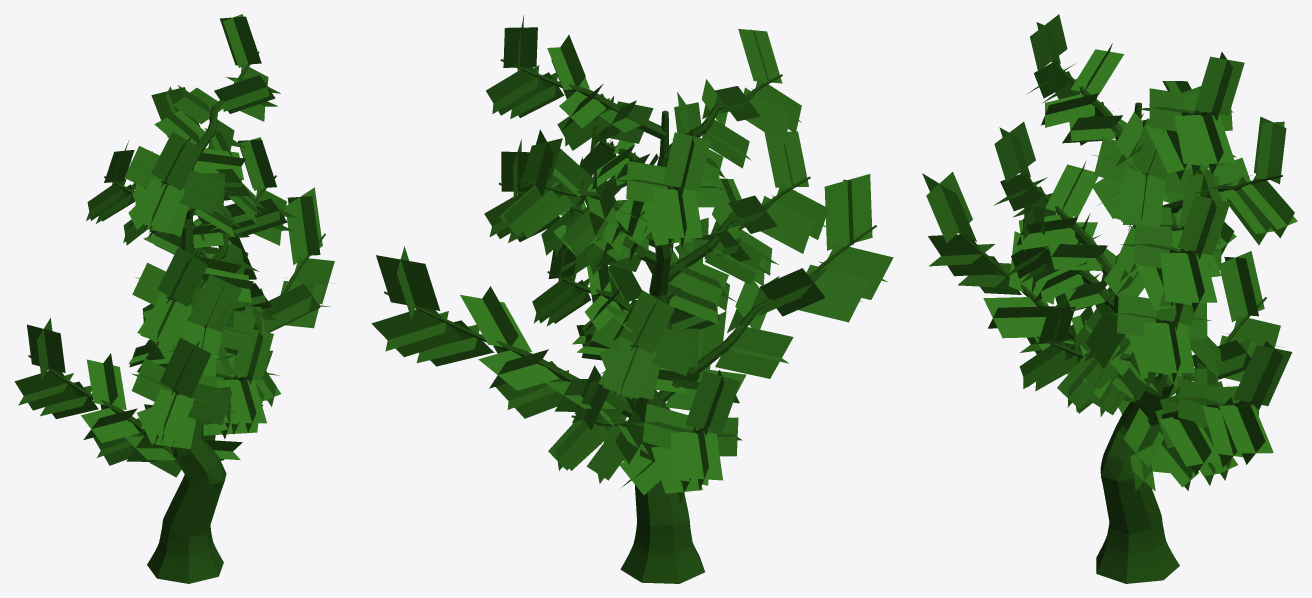
The model's file is TreeE11.fbx.
3 views of the same model, side by side, from view 1: azimuth 30°, elevation 25°; view 2: azimuth 150°, elevation 25°; view 3: azimuth 270°, elevation 25° (orthographic). The views are drawn at different scales.
Parts seen in each view (by area): view 1: TreeEE2; view 2: TreeEE2; view 3: TreeEE2.
Boxes of the visible parts, <box> form: TreeEE2: <box>14,14,334,583</box>; TreeEE2: <box>371,15,893,583</box>; TreeEE2: <box>922,14,1297,583</box>.
Bounding box in the file's own units: 3.22 × 4.7 × 2.86.
